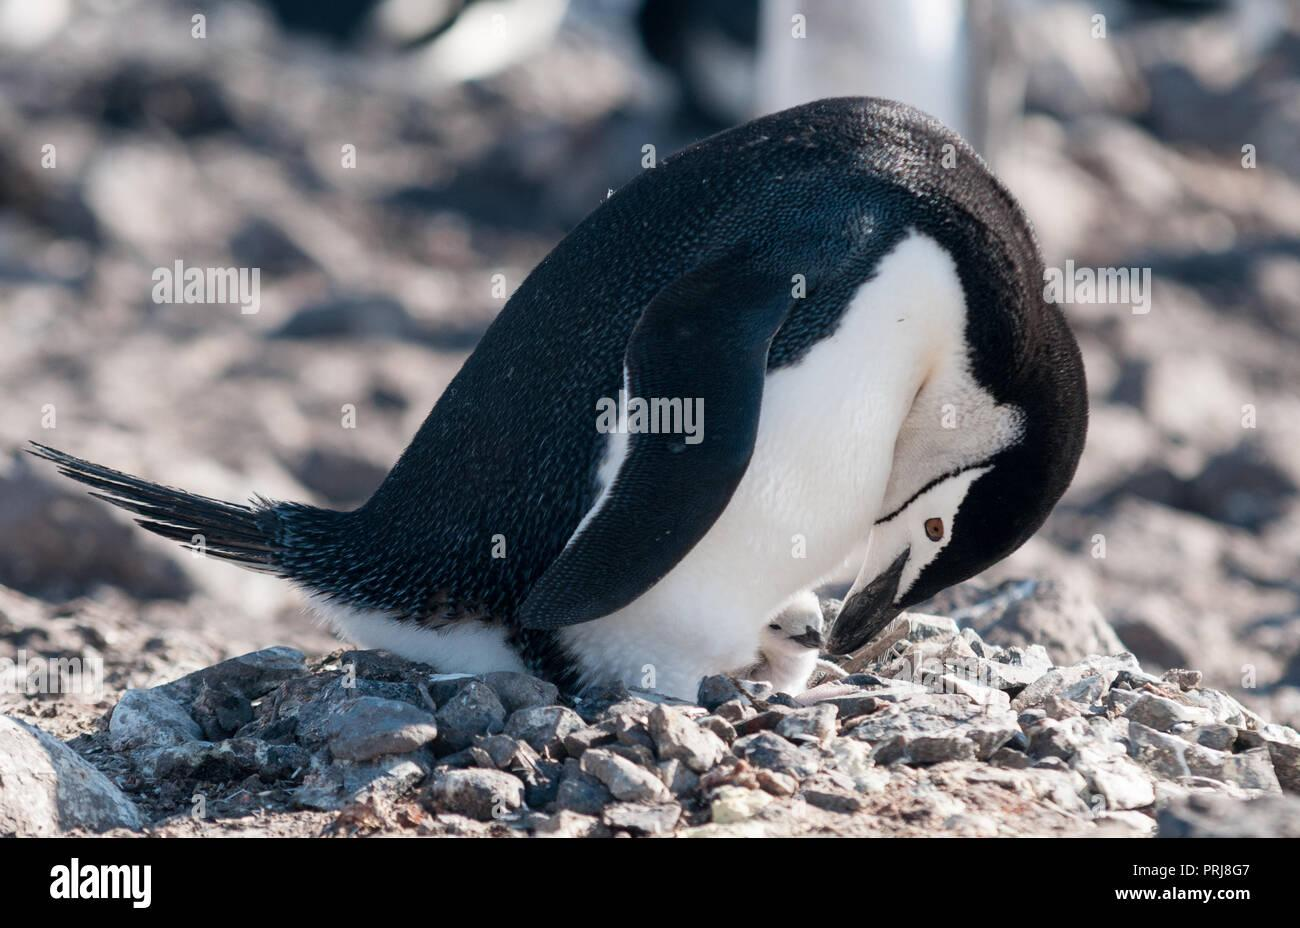chinstrap: (126, 72, 1108, 746)
